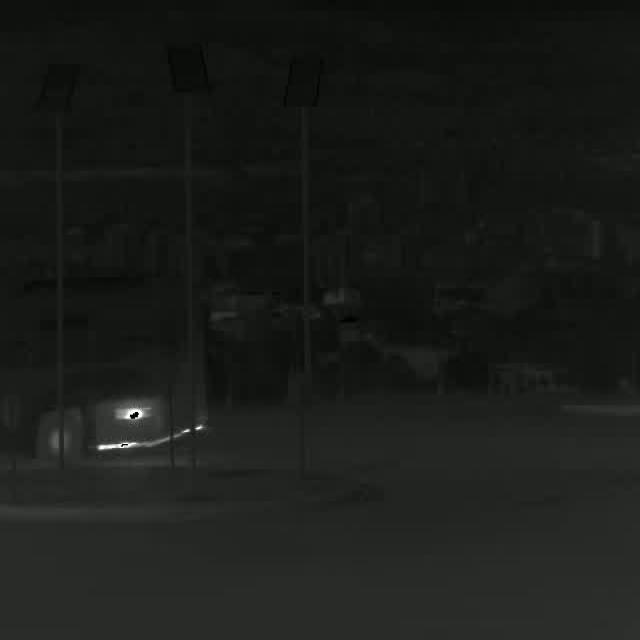Bus: (0, 280, 205, 468)
